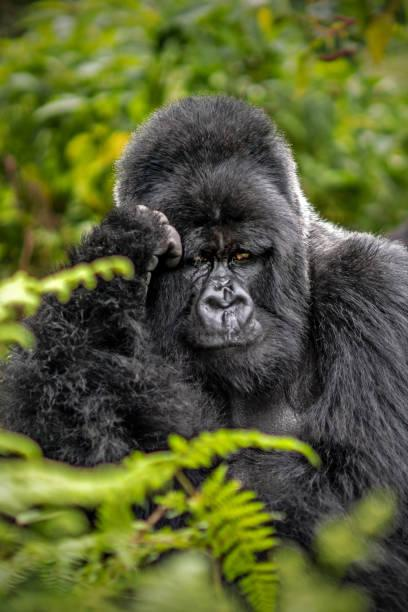goriile_montagne: (20, 84, 399, 515)
